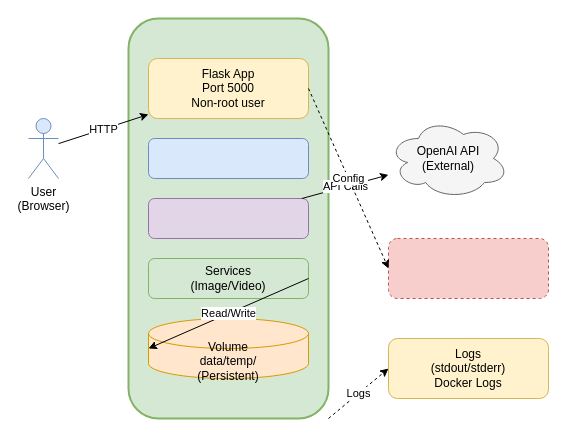
Some shapes in this 566 by 444 pixel diagram are drawn without their labels. Here are the shapes that lost their labels. From the top down, the centre of each, then its label:
At pixel 228 158: "Frontend (Static Files)".
At pixel 228 218: "Agents (LangGraph)".
At pixel 468 268: "Environment Variables .env file (Secrets)".
